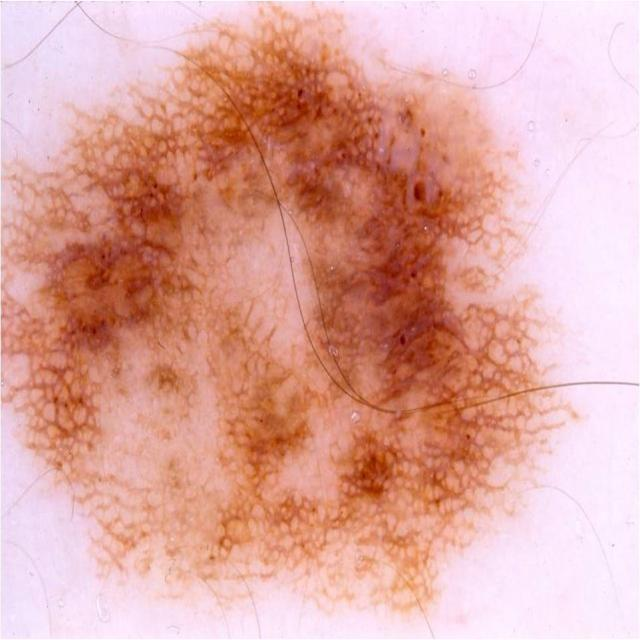Benign: (1, 11, 582, 608)
